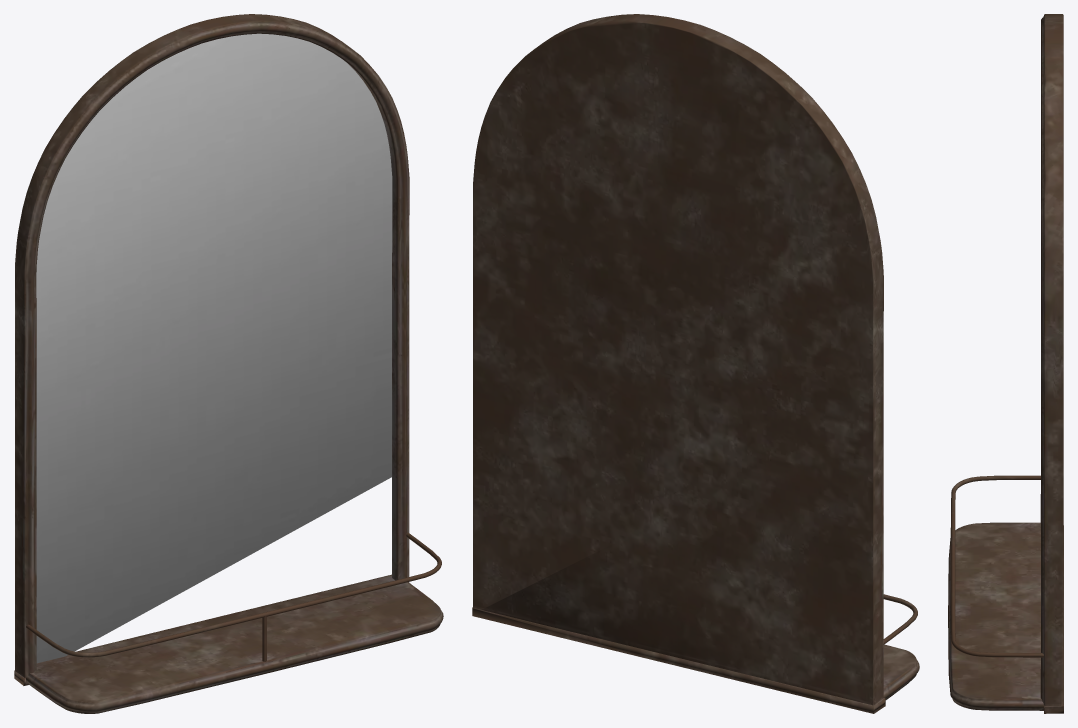
The model's file is abo-b073whkxd4.15c364cdfa.glb.
3 views of the same model, side by side, from view 1: azimuth 30°, elevation 25°; view 2: azimuth 150°, elevation 25°; view 3: azimuth 270°, elevation 25° (orthographic). The views are drawn at different scales.
Parts seen in each view (by area): view 1: RootNode; view 2: RootNode; view 3: RootNode.
Part boxes in pixels (box(x1,y1,x2,y2)): RootNode: box(14, 14, 443, 713); RootNode: box(472, 14, 919, 713); RootNode: box(948, 14, 1063, 713).
Bounding box in the file's own units: 0.5099 × 0.7696 × 0.1374.
1 material, 1 textured.
